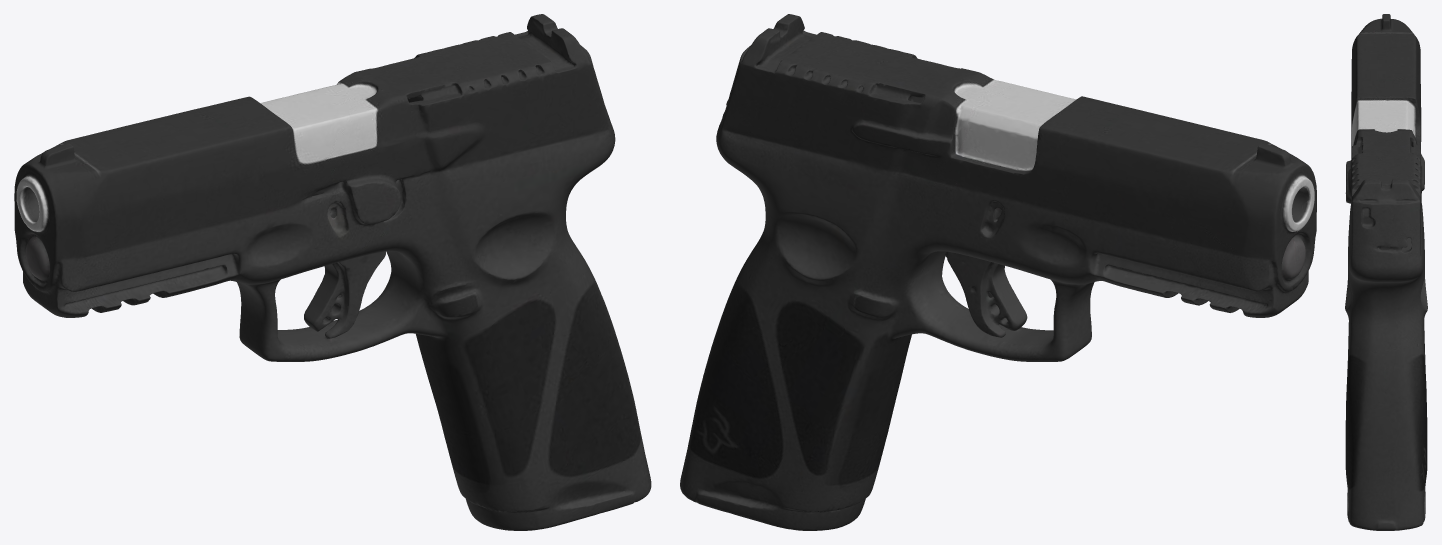
Rendered from pistola.glb.
The picture shows the model from 3 angles, left to right: view 1: azimuth 30°, elevation 25°; view 2: azimuth 150°, elevation 25°; view 3: azimuth 270°, elevation 25°; orthographic projection. The views are drawn at different scales.
Bounding box in the file's own units: 1.9 × 1.42 × 0.3246.
1 material, 1 textured.
